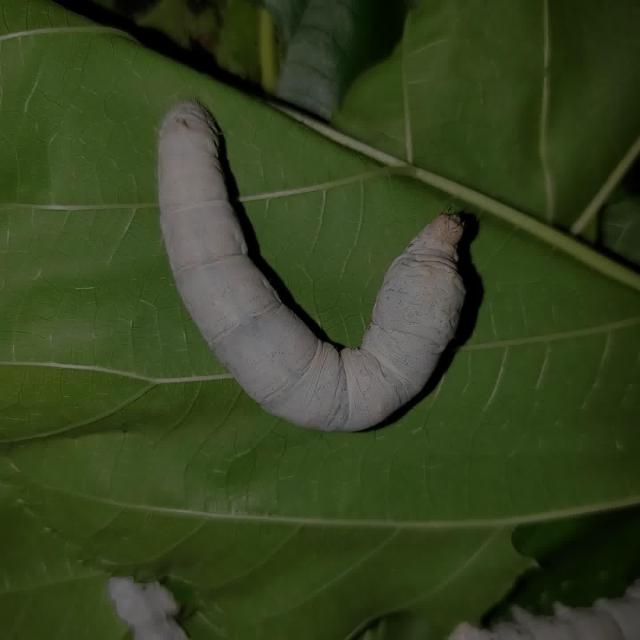Healthy: (138, 70, 495, 449)
